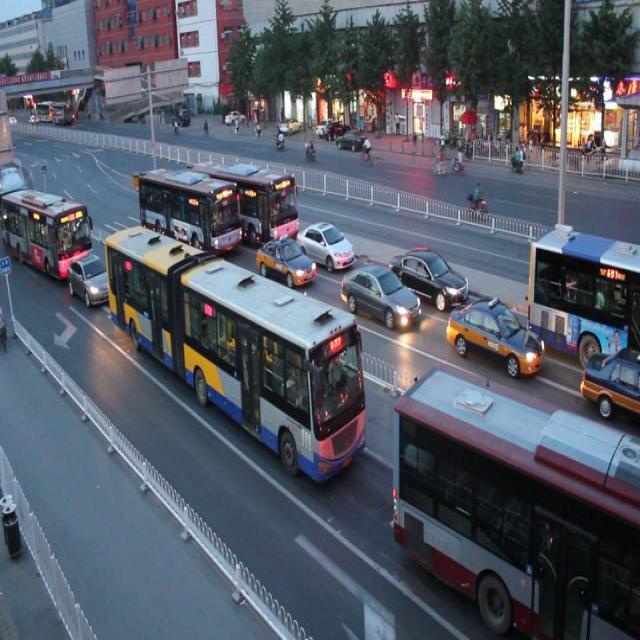car: (446, 294, 544, 382), (337, 258, 416, 331), (390, 243, 468, 309), (578, 343, 640, 416), (253, 230, 314, 289), (294, 214, 352, 273), (67, 250, 116, 308)
van: (102, 218, 366, 482), (394, 368, 640, 640), (525, 225, 640, 356), (136, 160, 240, 262), (191, 153, 298, 248), (1, 182, 90, 272)
